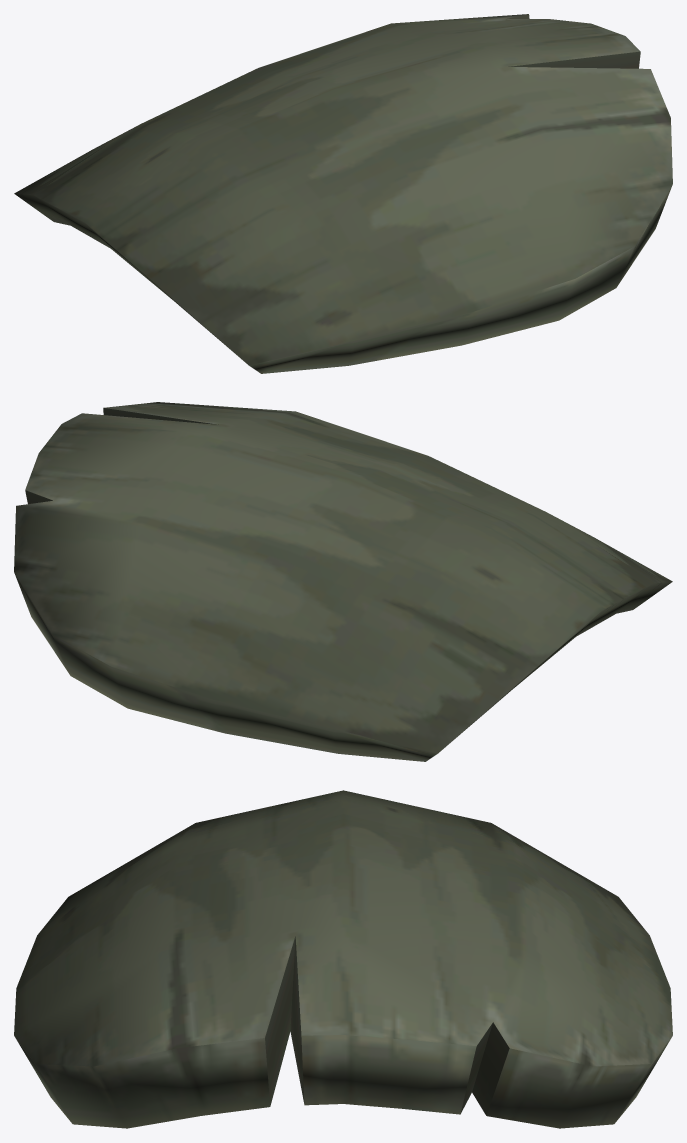
The model's file is Item_Enemy_32.glb.
3 renders of one model, top to bottom at view 1: azimuth 30°, elevation 25°; view 2: azimuth 150°, elevation 25°; view 3: azimuth 270°, elevation 25°, orthographic. The views are drawn at different scales.
Parts seen in each view (by area): view 1: Item_Enemy_32; view 2: Item_Enemy_32; view 3: Item_Enemy_32.
Part boxes in pixels (x1=…): Item_Enemy_32: x1=14, y1=14, x2=672, y2=373; Item_Enemy_32: x1=14, y1=402, x2=672, y2=761; Item_Enemy_32: x1=14, y1=790, x2=672, y2=1128.
Size of the model in its own units: 0.6863 by 0.2073 by 0.6187.
1 material, 1 textured.
